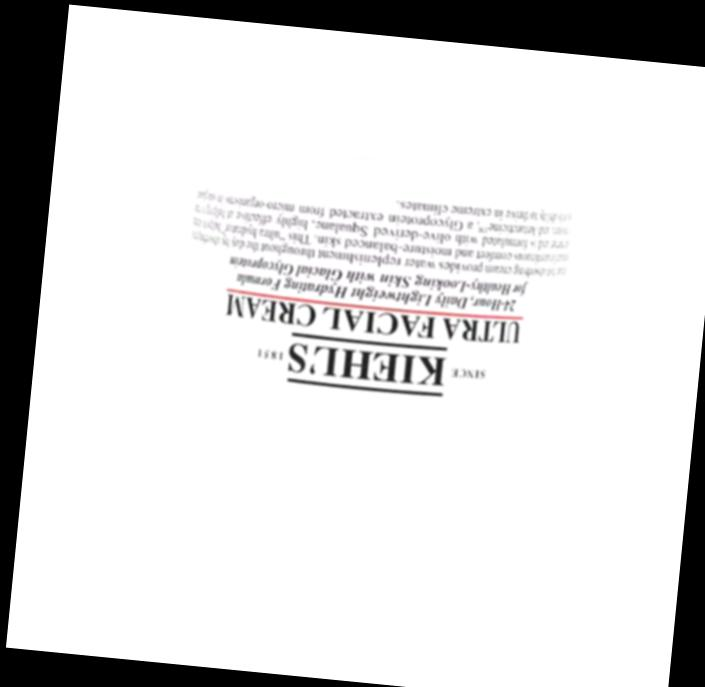cosmetic: (165, 140, 586, 501)
